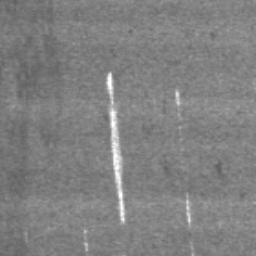Bright scratch: (110, 110, 124, 222), (107, 71, 114, 104), (186, 196, 191, 223), (175, 90, 181, 106)
